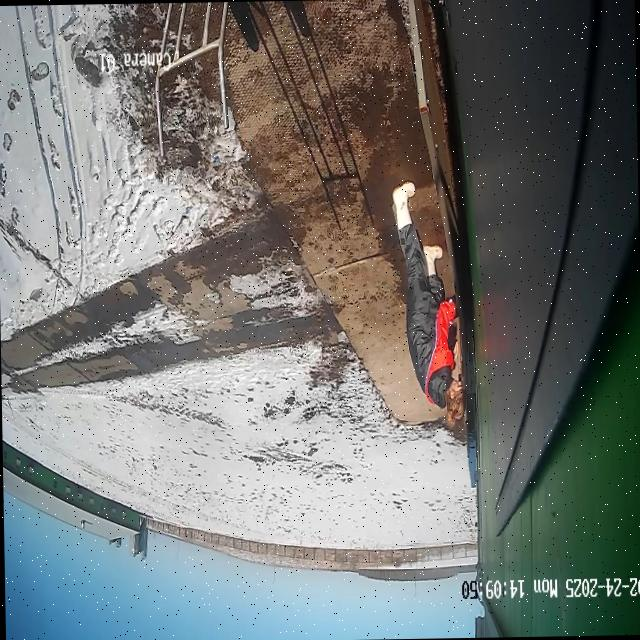Red uniform: (390, 176, 467, 427)
